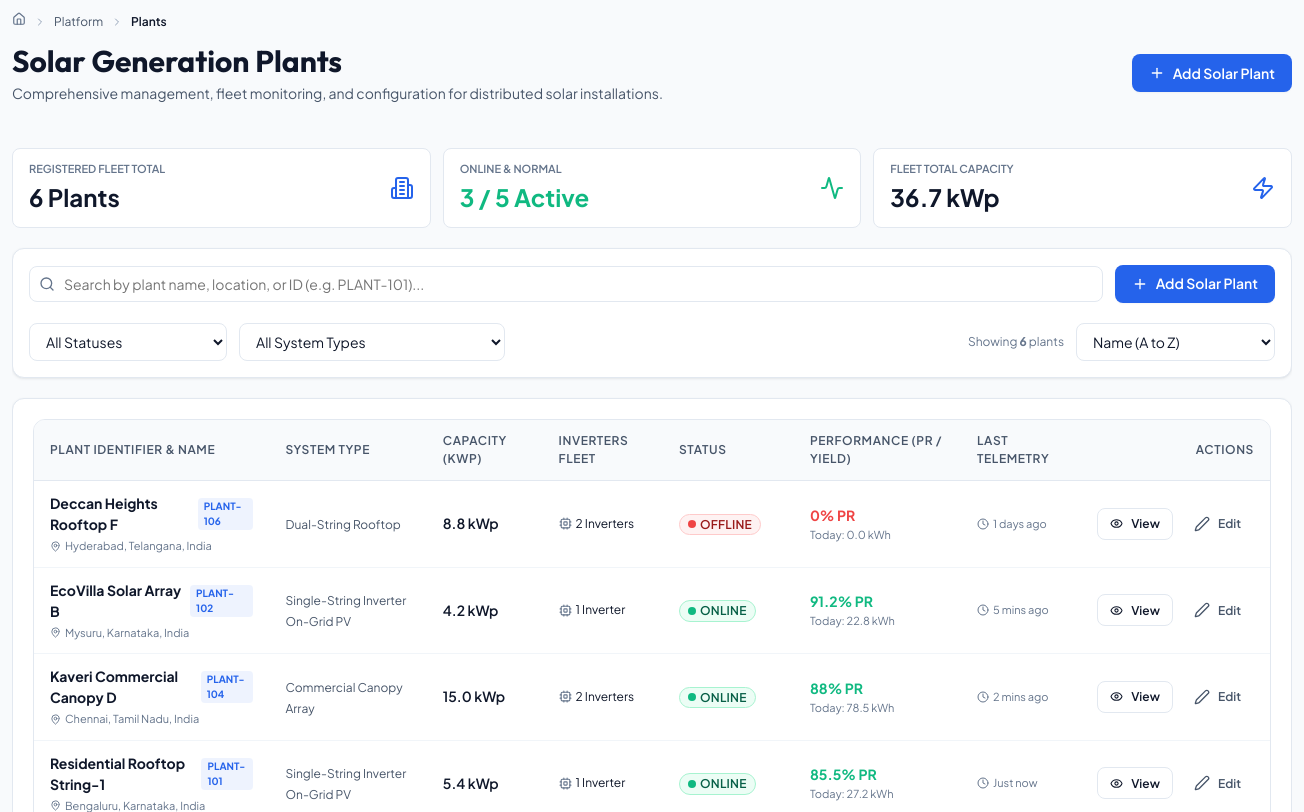
Scenario: PlantsPage Component & Filter Suite › filters plants list when typing in search input
The width and height of the screenshot is (1304, 812).
Expected: the text "Residential Rooftop String-1" is shown, left=50, top=752, right=196, bottom=794
In the search field with placeholder "Search by plant name, location, or ID (e.g. PLANT-101)...": (566, 284) left=29, top=266, right=1103, bottom=302, type "EcoVilla"
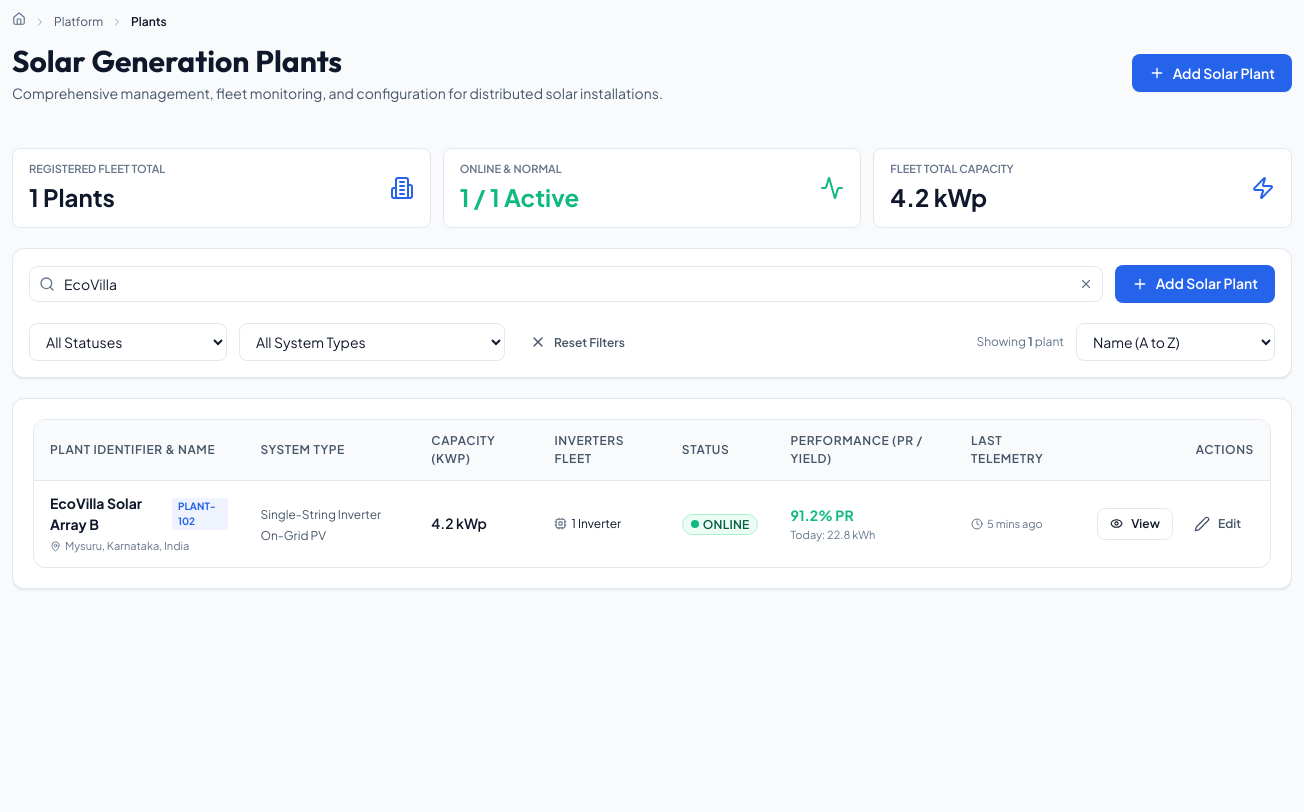
Expected: the text "EcoVilla Solar Array B" is shown, left=50, top=494, right=142, bottom=533
Now the text "Residential Rooftop String-1" is gone
